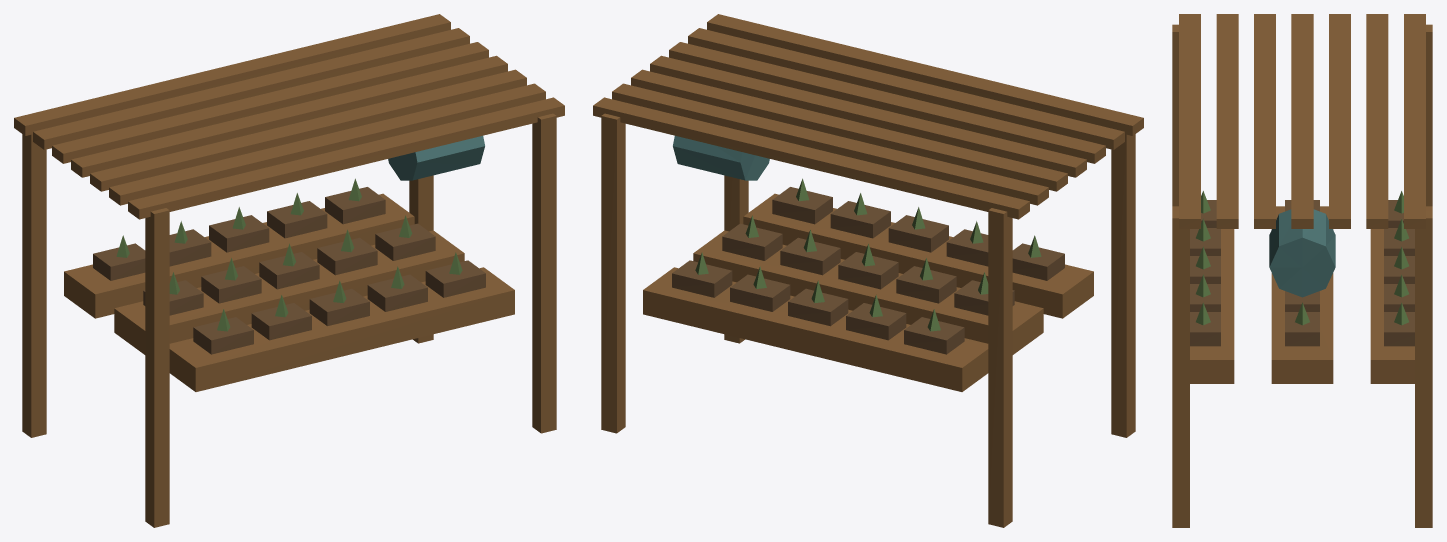
File: Nursery.glb
3 renders of one model, left to right at view 1: azimuth 30°, elevation 25°; view 2: azimuth 150°, elevation 25°; view 3: azimuth 270°, elevation 25°, orthographic.
Visible parts, largest first — view 1: wind-pump-static-nursery-timber-mat, wind-pump-static-nursery-tray-mat, wind-pump-static-nursery-seedling-mat, wind-pump-static-nursery-header-mat; view 2: wind-pump-static-nursery-timber-mat, wind-pump-static-nursery-tray-mat, wind-pump-static-nursery-seedling-mat, wind-pump-static-nursery-header-mat; view 3: wind-pump-static-nursery-timber-mat, wind-pump-static-nursery-tray-mat, wind-pump-static-nursery-header-mat, wind-pump-static-nursery-seedling-mat.
Boxes of the visible parts, x1,y1,x2,y2 form: wind-pump-static-nursery-timber-mat: [14, 14, 564, 527]; wind-pump-static-nursery-tray-mat: [93, 187, 485, 354]; wind-pump-static-nursery-seedling-mat: [116, 178, 462, 331]; wind-pump-static-nursery-header-mat: [388, 135, 484, 180]; wind-pump-static-nursery-timber-mat: [593, 14, 1143, 527]; wind-pump-static-nursery-tray-mat: [672, 187, 1064, 354]; wind-pump-static-nursery-seedling-mat: [695, 178, 1041, 331]; wind-pump-static-nursery-header-mat: [673, 135, 769, 180]; wind-pump-static-nursery-timber-mat: [1172, 14, 1432, 527]; wind-pump-static-nursery-tray-mat: [1190, 200, 1414, 346]; wind-pump-static-nursery-header-mat: [1269, 209, 1335, 297]; wind-pump-static-nursery-seedling-mat: [1196, 191, 1408, 325].
Bounding box in the file's own units: 2.2 × 1.58 × 1.18.
